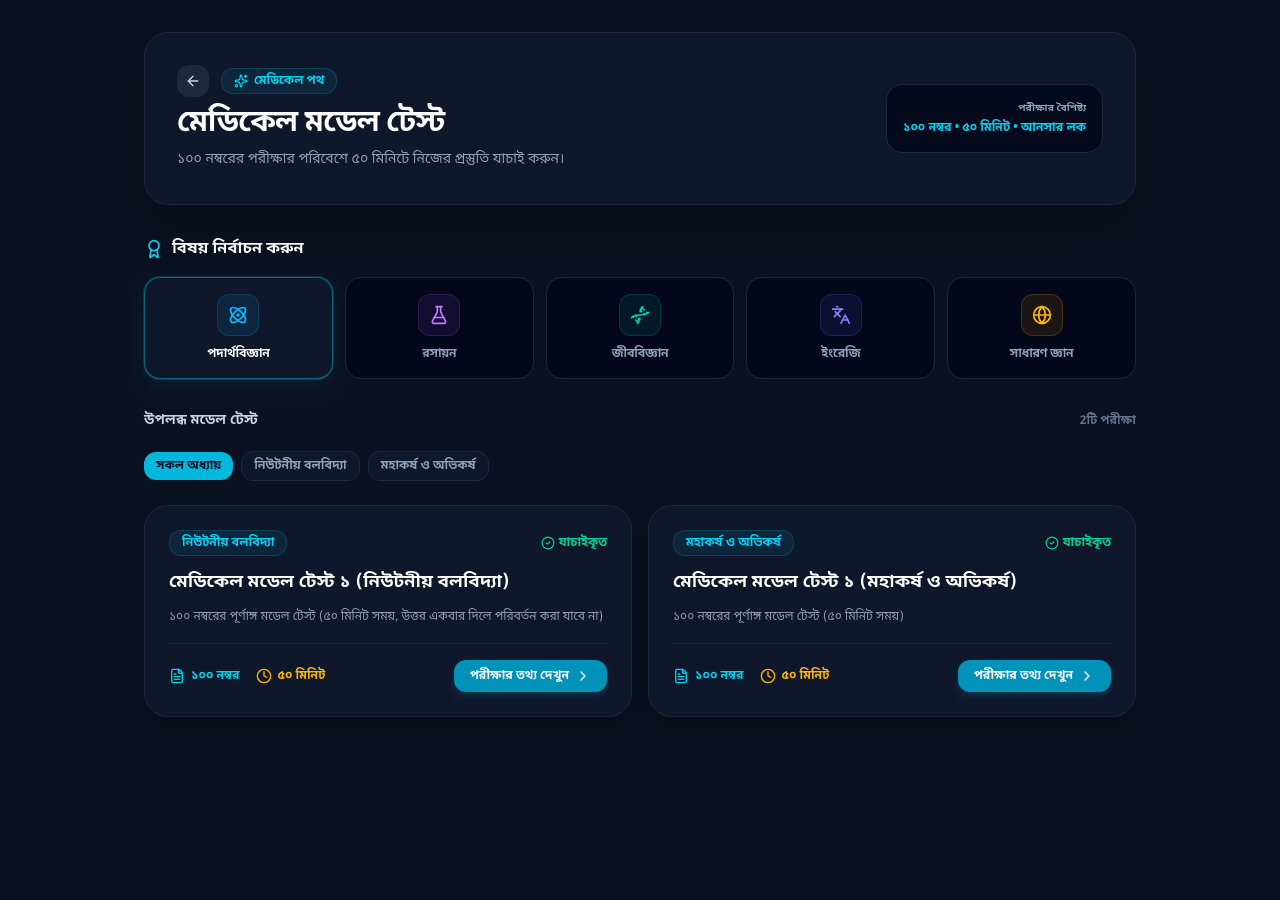
it: Medical Model Test Requirements & Safeguards › 3. Start button remains disabled until rules checkbox is acknowledged
This screenshot has width=1280, height=900.
Click the button "পরীক্ষার তথ্য দেখুন" below "মেডিকেল মডেল টেস্ট ১ (নিউটনীয় বলবিদ্যা)" at (530, 676), box [454,660,607,692]
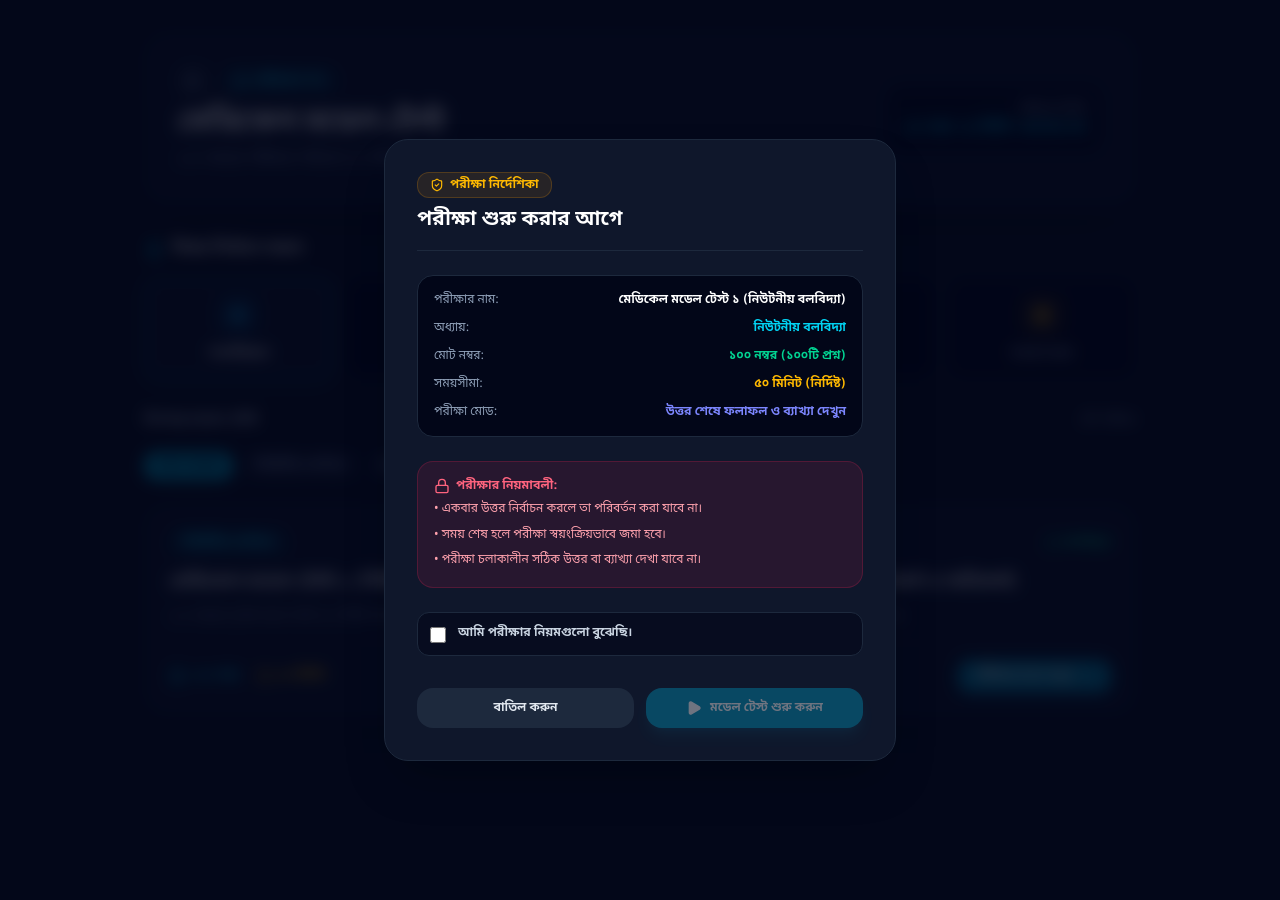
Check: the button "মডেল টেস্ট শুরু করুন" is disabled, box [646,688,863,728]
Click the checkbox at (438, 635), box [430,627,446,643]
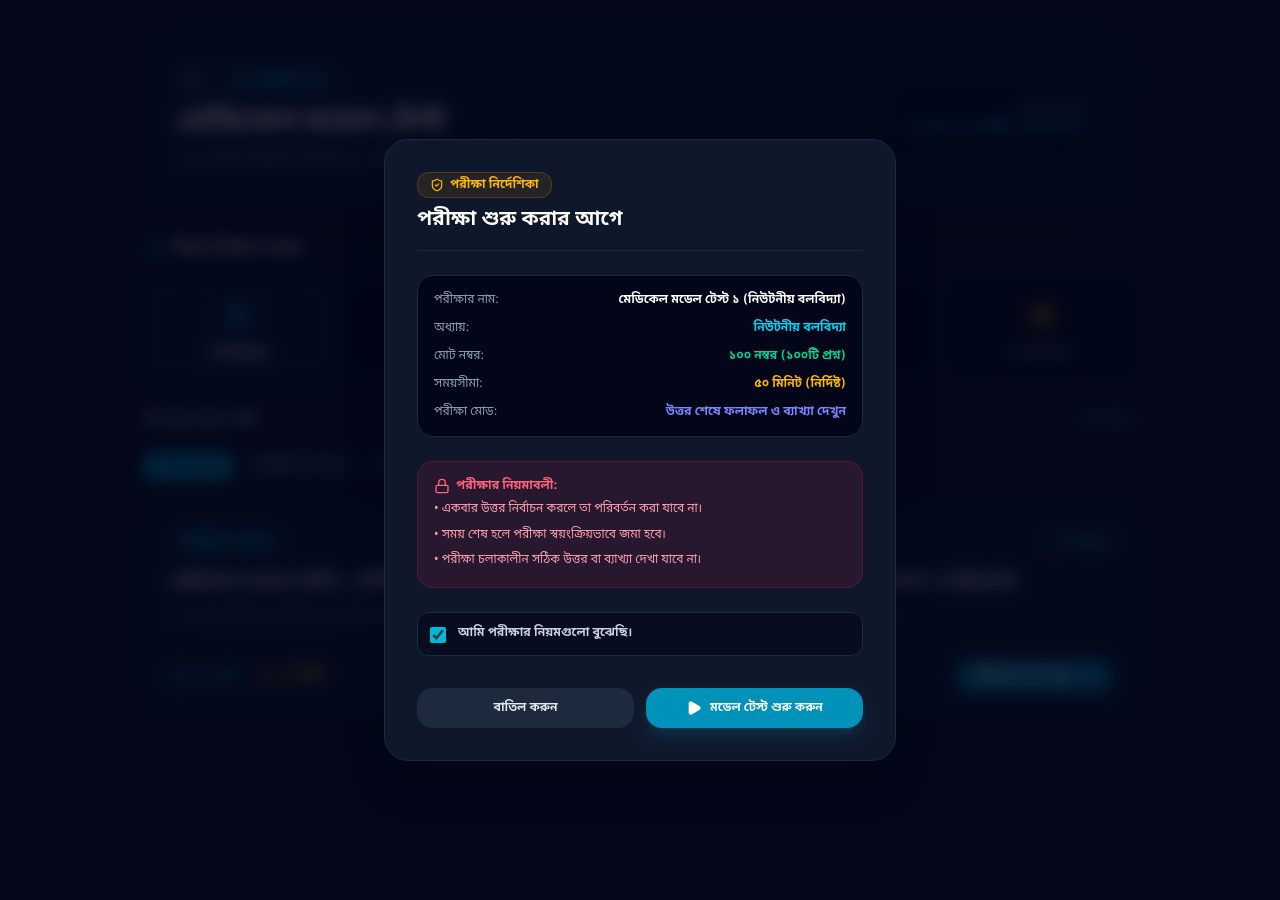
Check: the button "মডেল টেস্ট শুরু করুন" is enabled, box [646,688,863,728]
